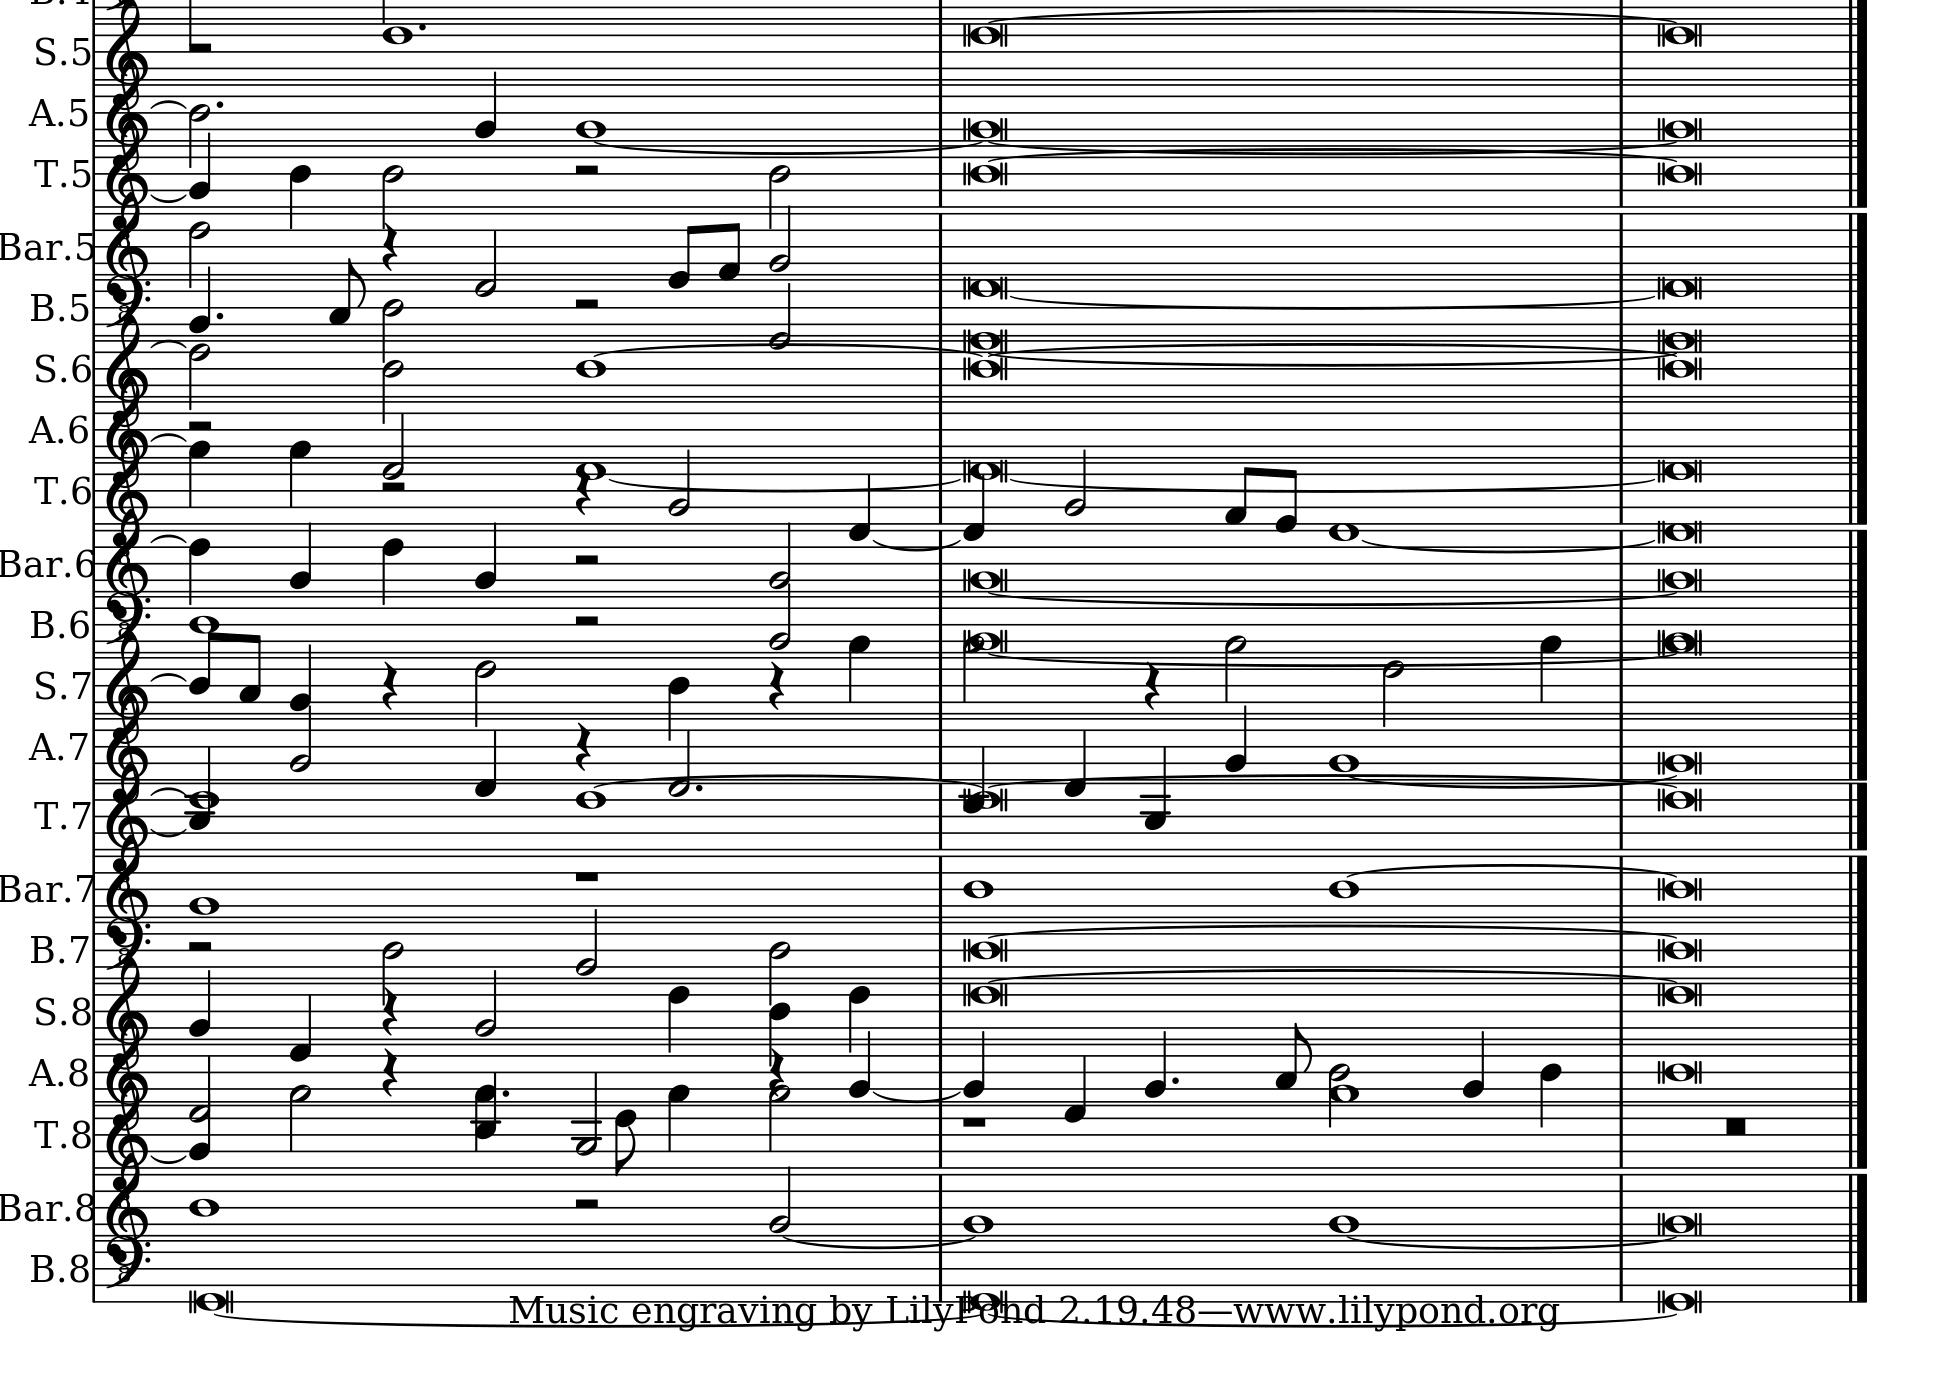Rests1: (571, 867, 603, 885), (571, 162, 603, 178), (958, 1113, 990, 1129), (187, 39, 217, 54)
Rests2: (570, 550, 603, 568), (571, 1195, 601, 1212), (571, 613, 603, 628), (184, 937, 216, 952)
Rests4: (573, 463, 597, 516), (571, 721, 595, 772), (379, 658, 400, 711), (379, 1045, 400, 1098), (766, 660, 787, 711), (379, 985, 400, 1036), (379, 223, 400, 271), (1143, 661, 1162, 711), (768, 1048, 789, 1093)
Slur: (873, 538, 966, 550), (871, 1090, 964, 1101), (148, 337, 187, 349), (150, 670, 187, 682), (150, 532, 186, 544), (148, 192, 187, 202), (150, 432, 187, 442), (150, 99, 186, 109), (148, 786, 184, 796), (150, 826, 189, 835), (150, 1153, 187, 1162)
dot: (213, 307, 226, 322), (1170, 1072, 1182, 1086), (415, 22, 427, 33), (214, 97, 225, 109), (693, 781, 703, 793), (499, 1087, 511, 1098)
